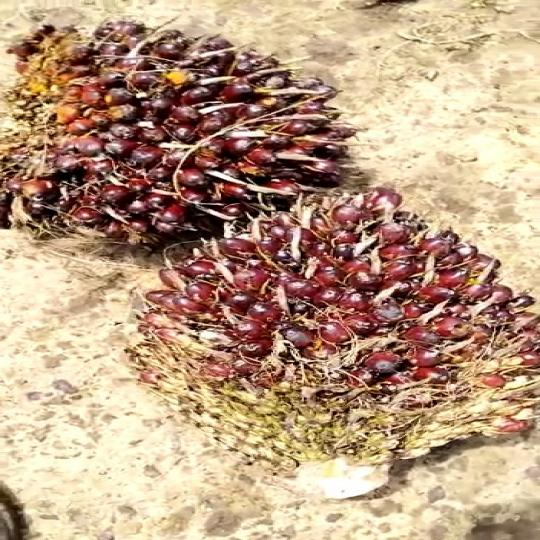kurang masak: (143, 188, 540, 503), (0, 9, 332, 243)
